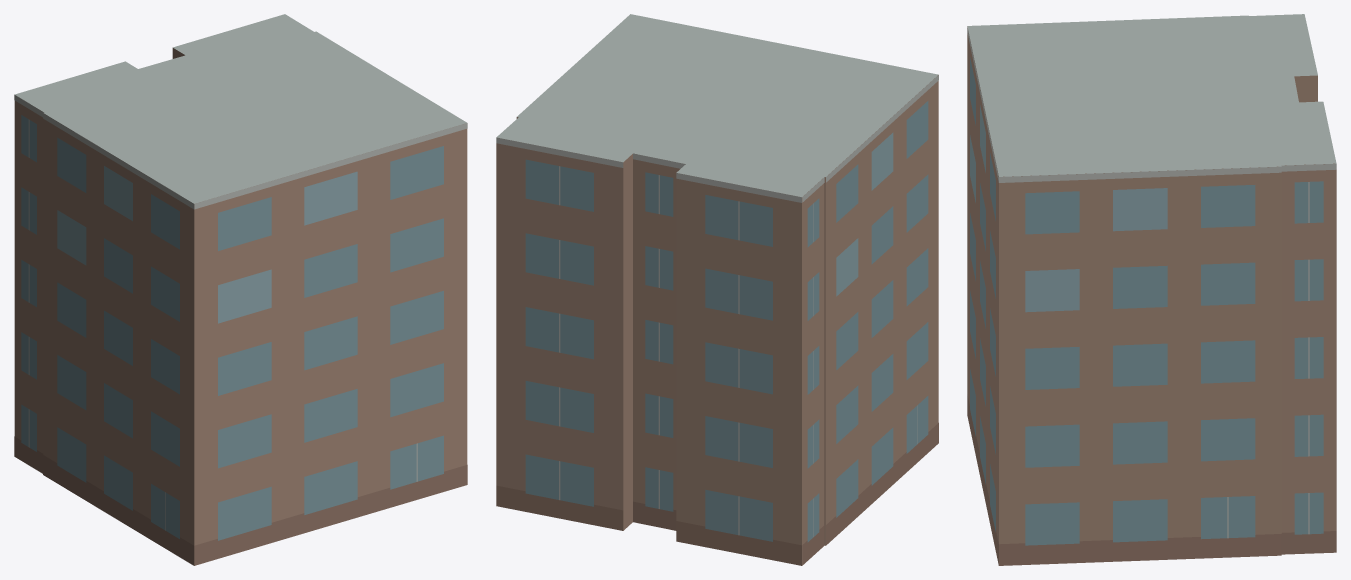
File: survey-upis-33012805.glb
3 views of the same model, side by side, from view 1: azimuth 30°, elevation 25°; view 2: azimuth 150°, elevation 25°; view 3: azimuth 270°, elevation 25° (orthographic). The views are drawn at different scales.
Visible parts, largest first — view 1: survey-upis-33012805.tmp; view 2: survey-upis-33012805.tmp; view 3: survey-upis-33012805.tmp.
Part boxes in pixels (box(x1,y1,x2,y2)): survey-upis-33012805.tmp: box(14, 14, 467, 565); survey-upis-33012805.tmp: box(496, 14, 938, 565); survey-upis-33012805.tmp: box(967, 14, 1336, 565).
Bounding box in the file's own units: 13.93 × 15.5 × 13.35.
